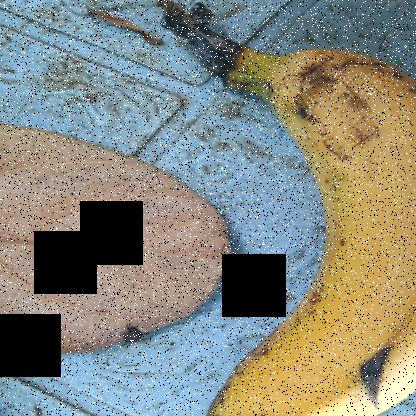ripe: (178, 24, 415, 415)
